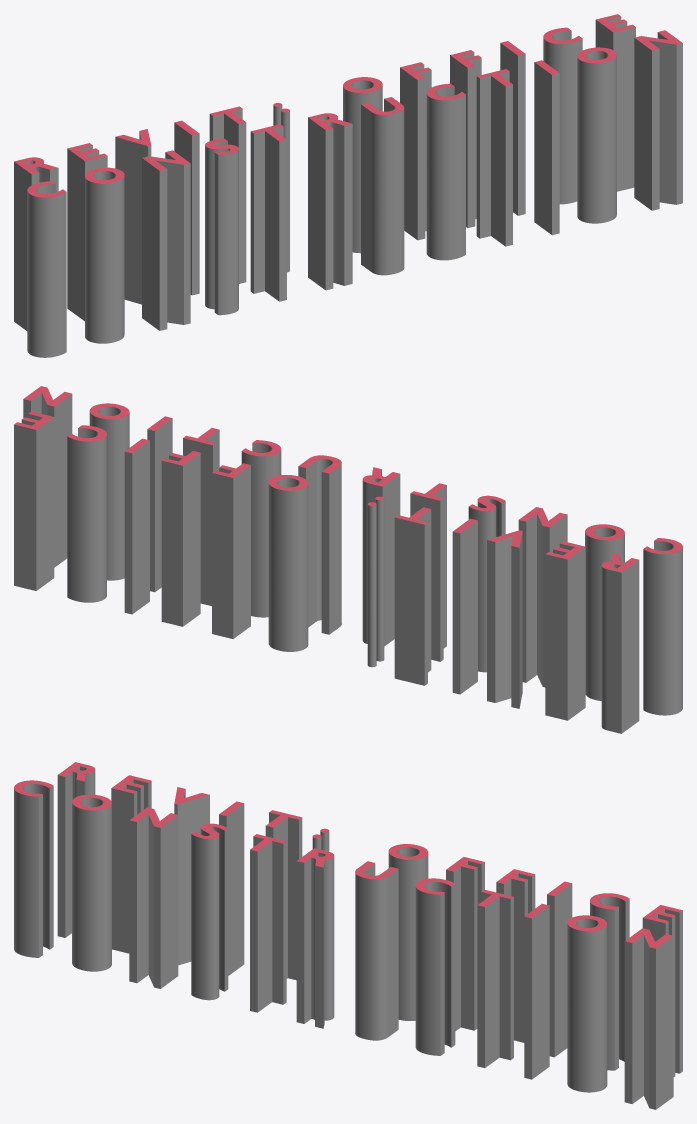
File: revitText.obj
The picture shows the model from 3 angles, top to bottom: view 1: azimuth 30°, elevation 25°; view 2: azimuth 150°, elevation 25°; view 3: azimuth 330°, elevation 25°; orthographic projection.
Size of the model in its own units: 21.05 by 5 by 2.63.
